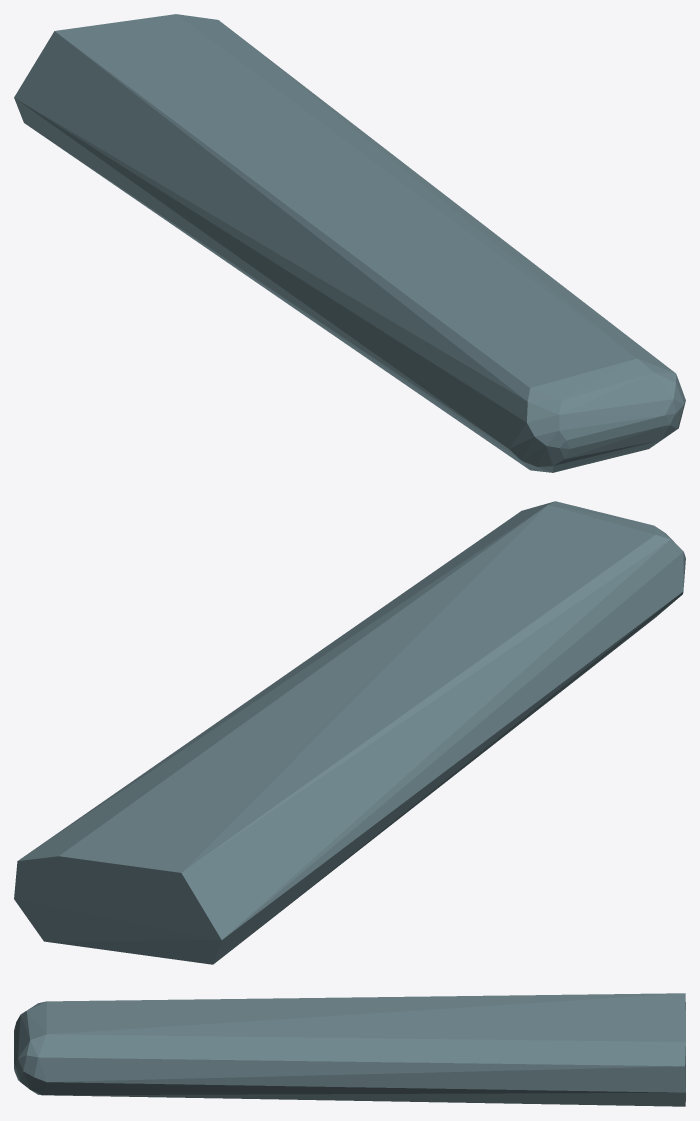
Rendered from medicine_c04.glb.
The picture shows the model from 3 angles, top to bottom: view 1: azimuth 30°, elevation 25°; view 2: azimuth 150°, elevation 25°; view 3: azimuth 270°, elevation 25°; orthographic projection. The views are drawn at different scales.
Visible parts, largest first — view 1: geometry_0; view 2: geometry_0; view 3: geometry_0.
Part boxes in pixels (bbox=[...]): geometry_0: bbox=[14, 14, 685, 472]; geometry_0: bbox=[14, 501, 685, 964]; geometry_0: bbox=[14, 993, 685, 1106].
Bounding box in the file's own units: 0.1149 × 0.054 × 0.4798.
